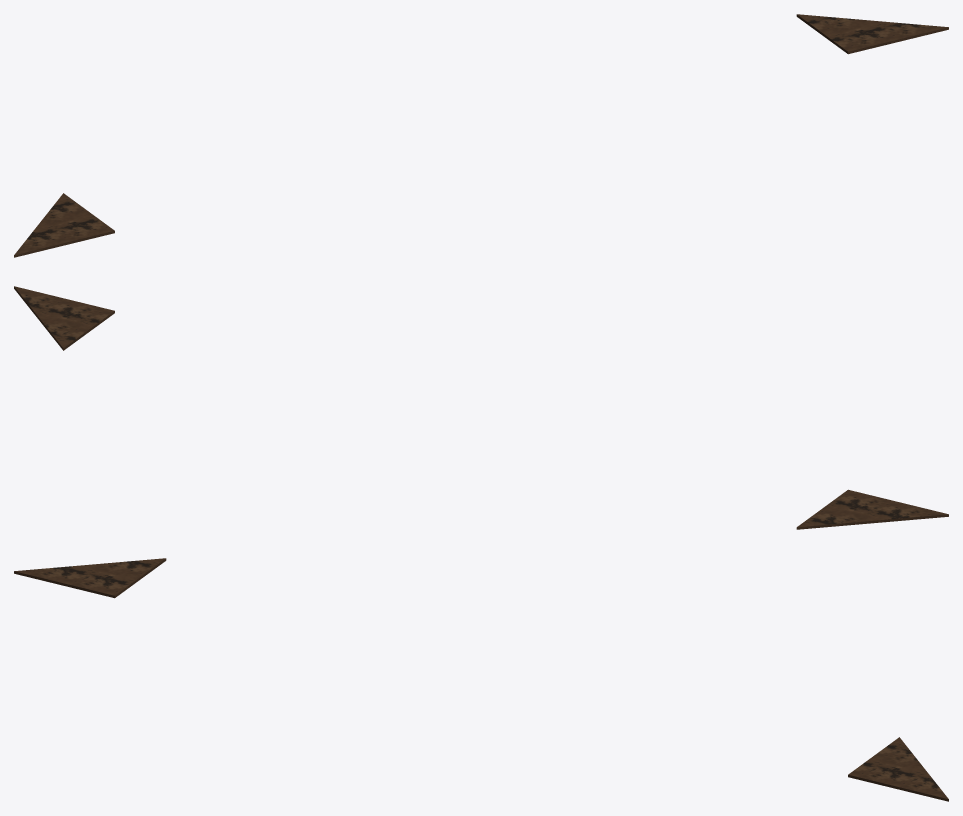
The model's file is mwm_corners.glb.
3 views of the same model, one above another, from view 1: azimuth 30°, elevation 25°; view 2: azimuth 150°, elevation 25°; view 3: azimuth 330°, elevation 25° (orthographic).
Parts seen in each view (by area): view 1: marble; view 2: marble; view 3: marble.
Part boxes in pixels (left/top/right/bottom): marble: left=14, top=14, right=948, bottom=257; marble: left=14, top=286, right=948, bottom=529; marble: left=14, top=558, right=948, bottom=801.
Size of what is drawn, in the model's own units: 158 by 0.4 by 15.05.
1 material, 1 textured.
